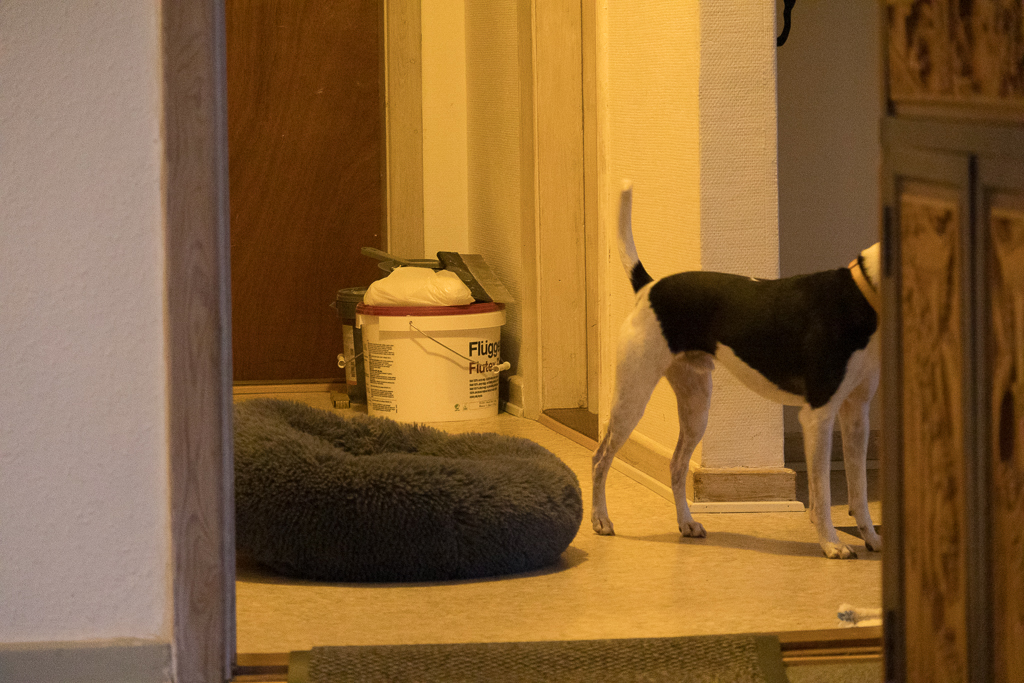Dog: (586, 161, 904, 569)
